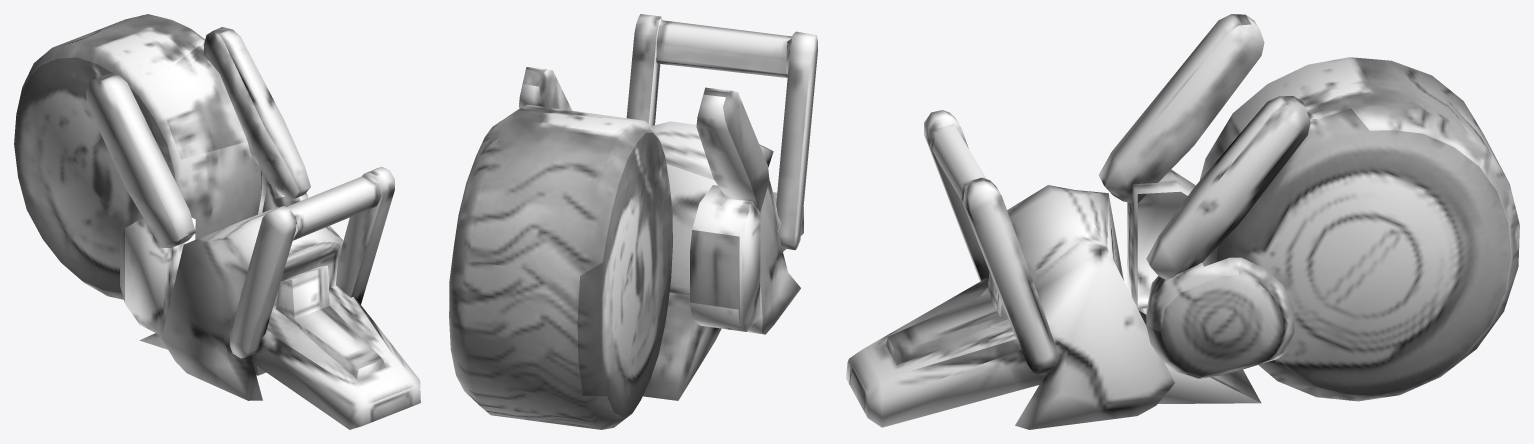
Rendered from fl_foot.glb.
3 renders of one model, left to right at view 1: azimuth 30°, elevation 25°; view 2: azimuth 150°, elevation 25°; view 3: azimuth 270°, elevation 25°, orthographic. The views are drawn at different scales.
Parts seen in each view (by area): view 1: fl_foot; view 2: fl_foot; view 3: fl_foot.
Part boxes in pixels (bbox=[...]): fl_foot: bbox=[14, 14, 420, 429]; fl_foot: bbox=[449, 14, 817, 429]; fl_foot: bbox=[846, 14, 1519, 429].
Bounding box in the file's own units: 0.4856 × 0.6483 × 1.21.
Materials: 3 (3 with a texture image).
